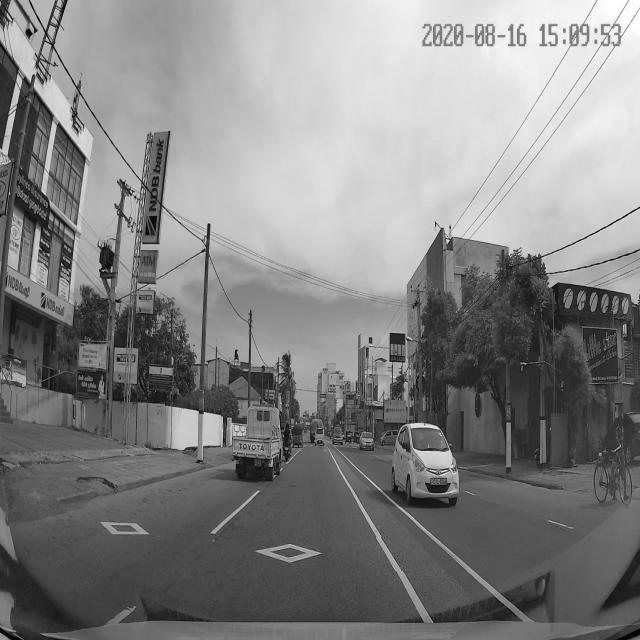diamond: (193, 537, 402, 571)
